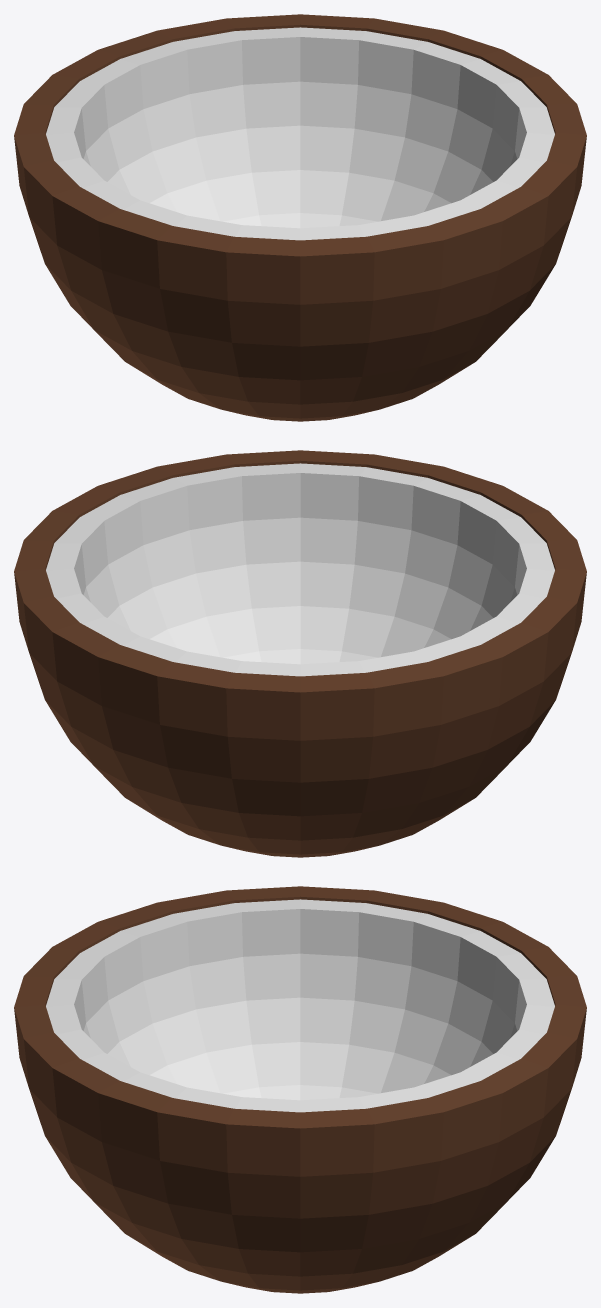
File: coconatPie.fbx
3 renders of one model, top to bottom at view 1: azimuth 30°, elevation 25°; view 2: azimuth 150°, elevation 25°; view 3: azimuth 270°, elevation 25°, orthographic.
Parts seen in each view (by area): view 1: Sphere.002; view 2: Sphere.002; view 3: Sphere.002.
Part boxes in pixels (x1,y1,x2,y2): Sphere.002: (14, 14, 586, 421); Sphere.002: (14, 450, 586, 857); Sphere.002: (14, 886, 586, 1293).
Bounding box in the file's own units: 2 × 1.01 × 2.
